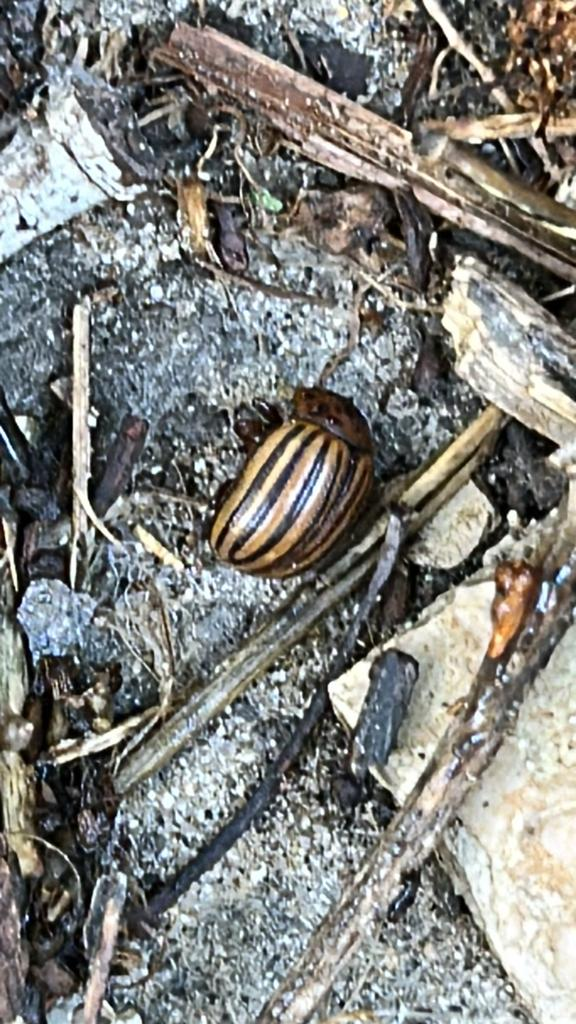potato_beetle: (165, 353, 435, 620)
